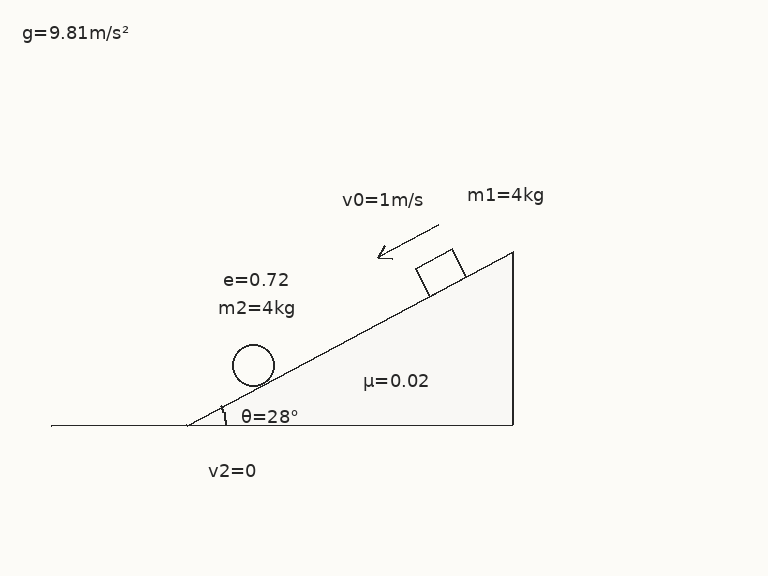ball: (230, 342, 276, 388)
block: (413, 247, 468, 298)
ramp: (184, 249, 515, 427)
